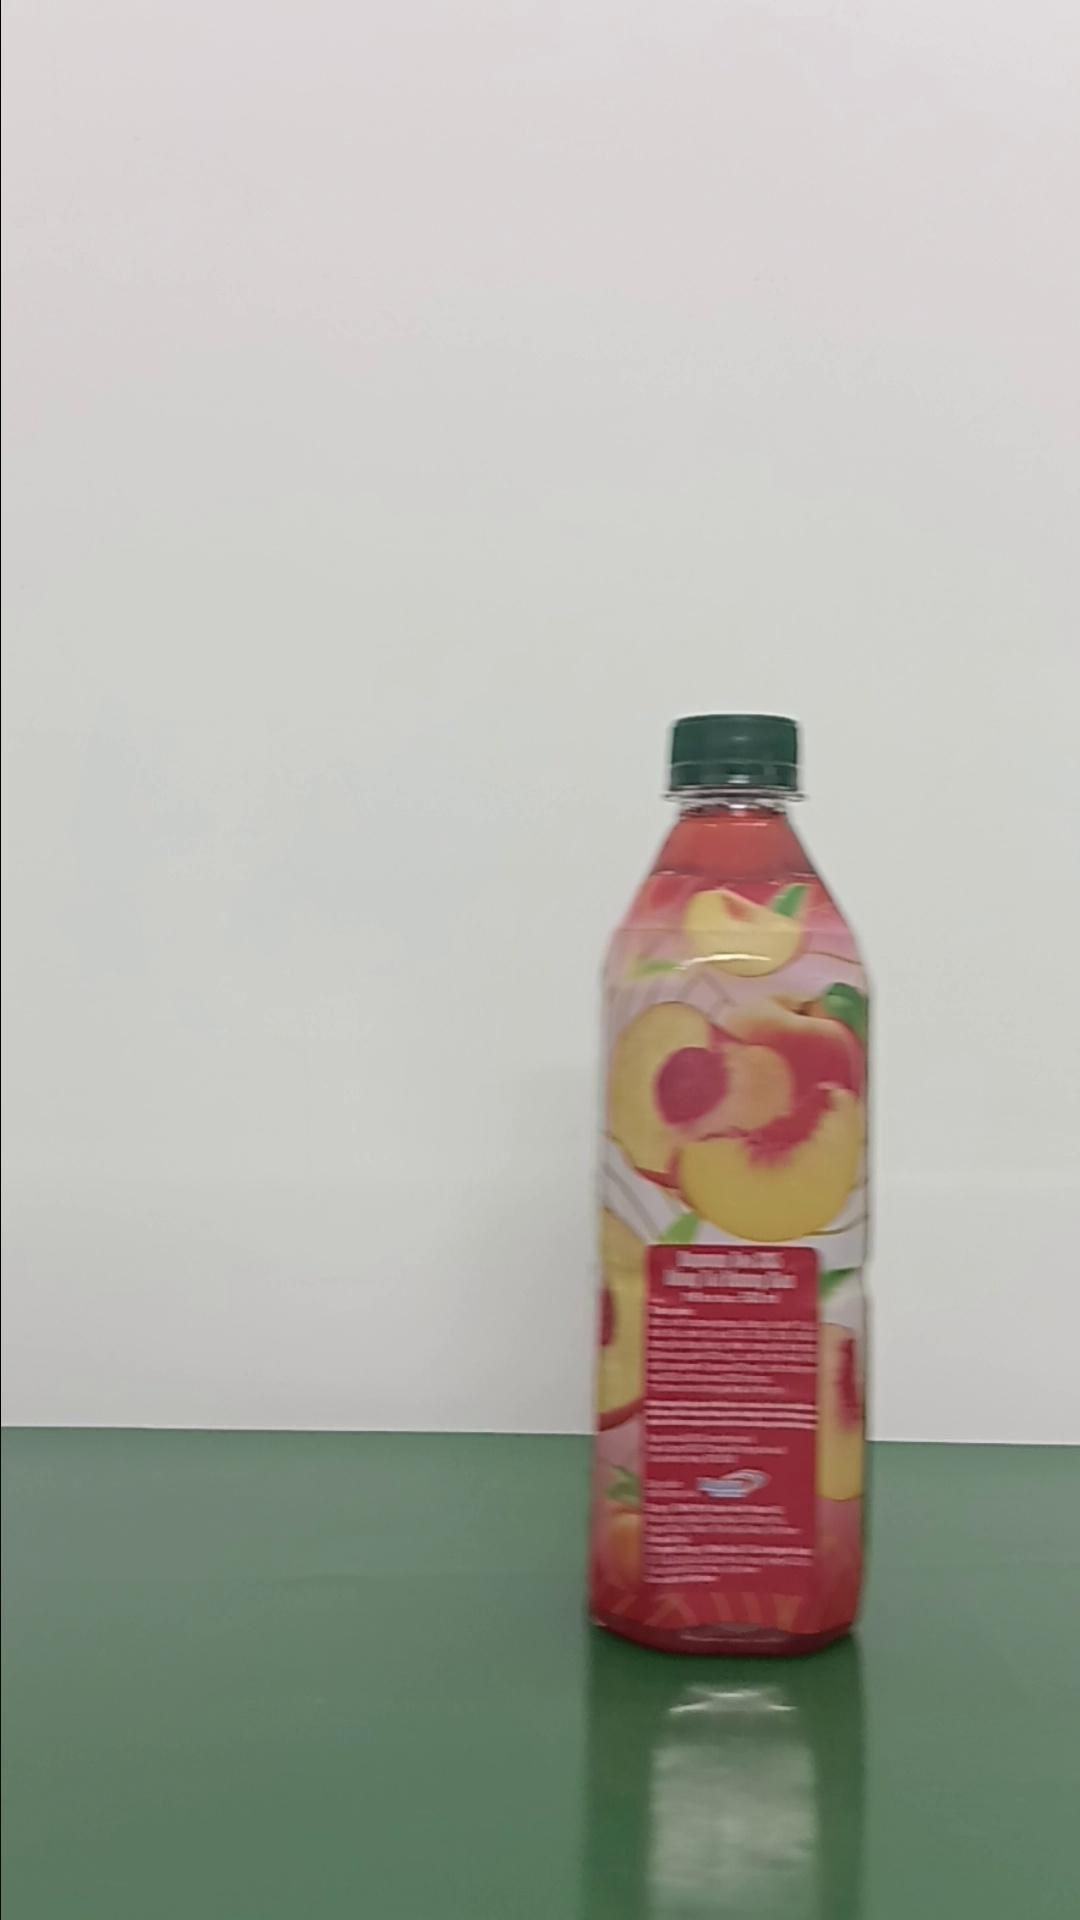khong loi: (585, 709, 874, 1658)
